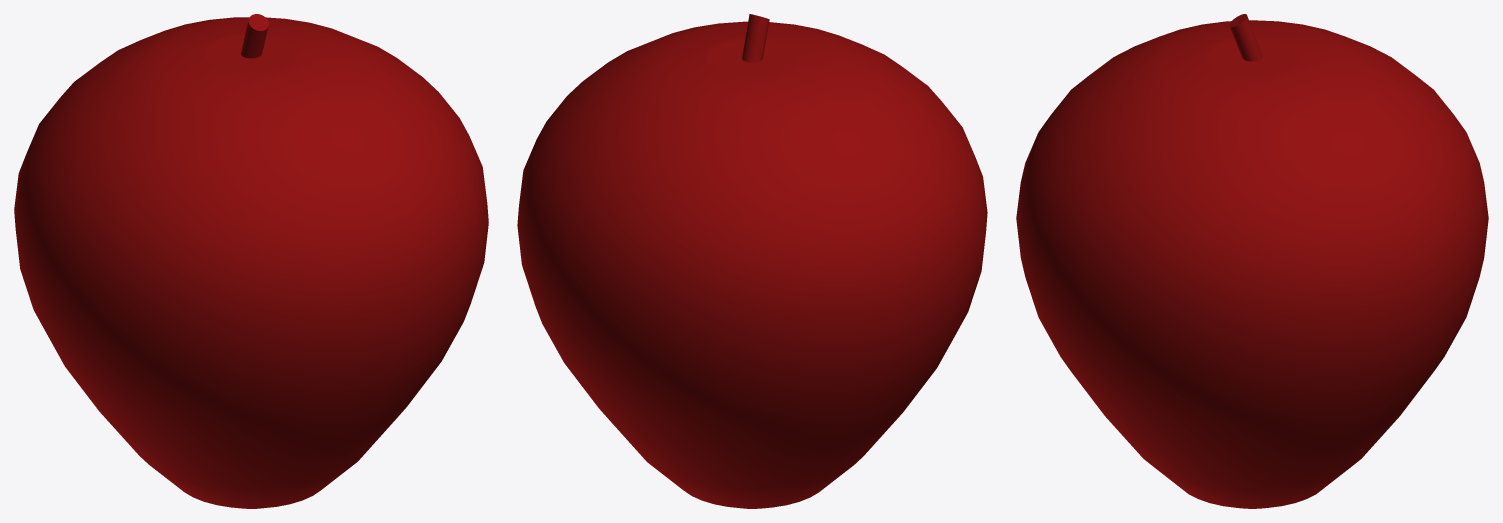
Rendered from StrawberryWhole.FBX.
3 views of the same model, side by side, from view 1: azimuth 30°, elevation 25°; view 2: azimuth 150°, elevation 25°; view 3: azimuth 270°, elevation 25° (orthographic).
Visible parts, largest first — view 1: Sphere001; view 2: Sphere001; view 3: Sphere001.
Part boxes in pixels (x1,y1,x2,y2): Sphere001: (14, 14, 488, 508); Sphere001: (517, 14, 987, 508); Sphere001: (1016, 14, 1488, 508).
Size of the model in its own units: 4 by 4.46 by 4.
